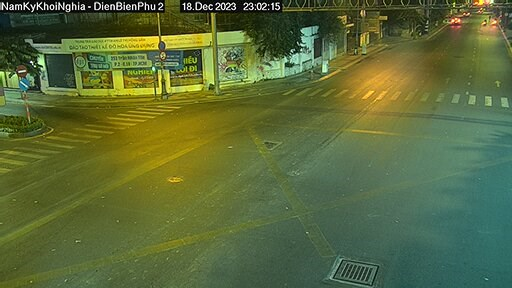car: (446, 14, 465, 27)
